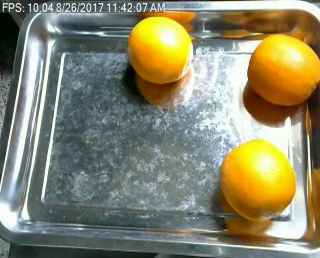Orange: (219, 139, 297, 220), (247, 34, 320, 106), (126, 14, 191, 83)
